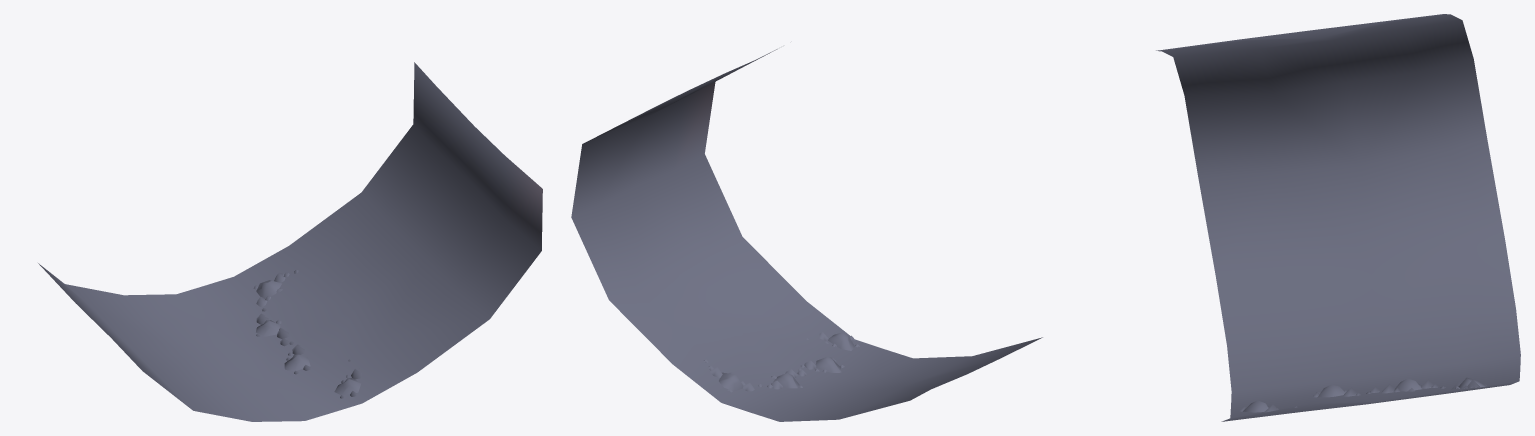
Rendered from Arctic_Luge_Tunnel_Right_15_Mid_B.glb.
The picture shows the model from 3 angles, left to right: view 1: azimuth 30°, elevation 25°; view 2: azimuth 150°, elevation 25°; view 3: azimuth 270°, elevation 25°; orthographic projection. The views are drawn at different scales.
Visible parts, largest first — view 1: Arctic_Luge_Tunnel_Right_15_Mid_B; view 2: Arctic_Luge_Tunnel_Right_15_Mid_B; view 3: Arctic_Luge_Tunnel_Right_15_Mid_B.
Boxes of the visible parts, x1=… form: Arctic_Luge_Tunnel_Right_15_Mid_B: x1=38, y1=62, x2=542, y2=421; Arctic_Luge_Tunnel_Right_15_Mid_B: x1=571, y1=49, x2=1042, y2=421; Arctic_Luge_Tunnel_Right_15_Mid_B: x1=1156, y1=14, x2=1520, y2=421.
Bounding box in the file's own units: 4.44 × 3.49 × 3.13.
